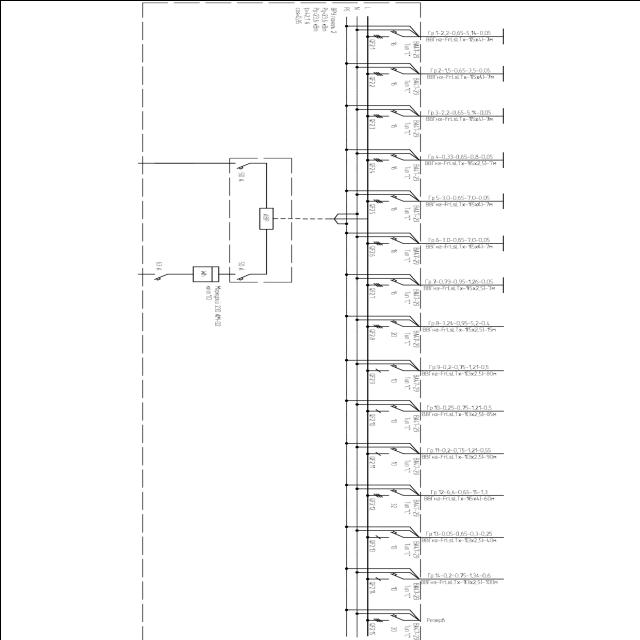-: (204, 283, 222, 327), (402, 582, 420, 600), (402, 373, 420, 391), (401, 456, 419, 474), (402, 118, 420, 136), (402, 246, 420, 264), (402, 540, 419, 558), (402, 77, 419, 95), (402, 621, 418, 640), (403, 39, 419, 58), (403, 287, 419, 306), (404, 202, 419, 222), (404, 162, 419, 182), (403, 498, 419, 516), (402, 329, 418, 347), (403, 414, 419, 432), (328, 6, 338, 33), (236, 259, 247, 271), (153, 259, 163, 271), (236, 171, 243, 181), (390, 626, 396, 632), (390, 206, 396, 212), (390, 331, 396, 337), (390, 164, 396, 170), (390, 586, 396, 592), (390, 288, 396, 294), (390, 502, 396, 508), (390, 80, 396, 86), (390, 544, 396, 550), (390, 417, 396, 423), (390, 40, 396, 46), (390, 122, 396, 128), (391, 248, 396, 254), (391, 460, 396, 466), (390, 377, 396, 382)
AVR: (256, 205, 274, 230)
QF: (372, 612, 404, 622), (372, 192, 404, 202), (372, 152, 404, 162), (372, 66, 404, 76), (372, 488, 403, 498), (372, 277, 402, 287), (372, 109, 404, 118), (375, 403, 403, 413), (372, 319, 403, 328), (372, 29, 403, 38), (374, 530, 404, 539), (374, 363, 404, 372), (374, 446, 402, 455), (373, 236, 404, 244), (374, 572, 403, 580), (149, 270, 169, 280), (230, 160, 250, 168), (230, 272, 250, 280)
WH: (190, 264, 220, 282)
